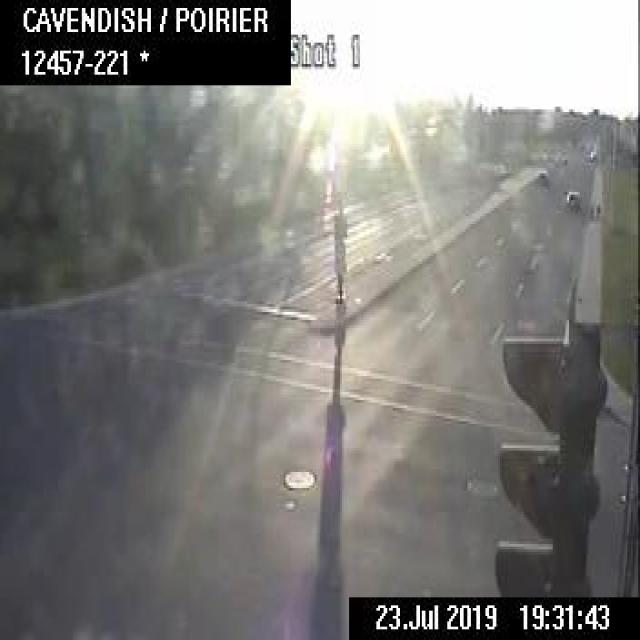vehicle: (565, 189, 580, 208), (536, 168, 551, 187)
